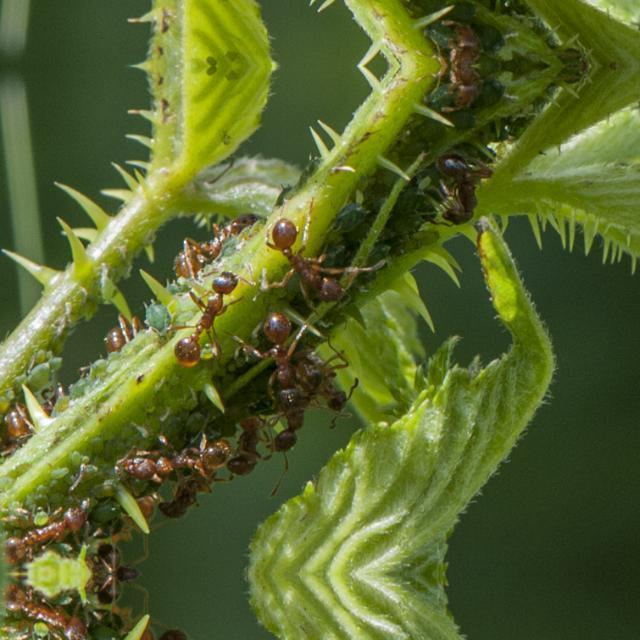Myrmica: (264, 208, 384, 312), (0, 478, 100, 562), (168, 260, 242, 368), (257, 305, 327, 419), (157, 204, 263, 276), (428, 136, 514, 224), (258, 385, 340, 475), (297, 334, 367, 424), (115, 434, 229, 484), (0, 584, 100, 640), (155, 451, 233, 522), (227, 394, 273, 482), (427, 65, 509, 113), (427, 17, 509, 65), (0, 392, 70, 446), (79, 574, 171, 614), (79, 534, 171, 572), (95, 306, 161, 358), (155, 624, 233, 640)
